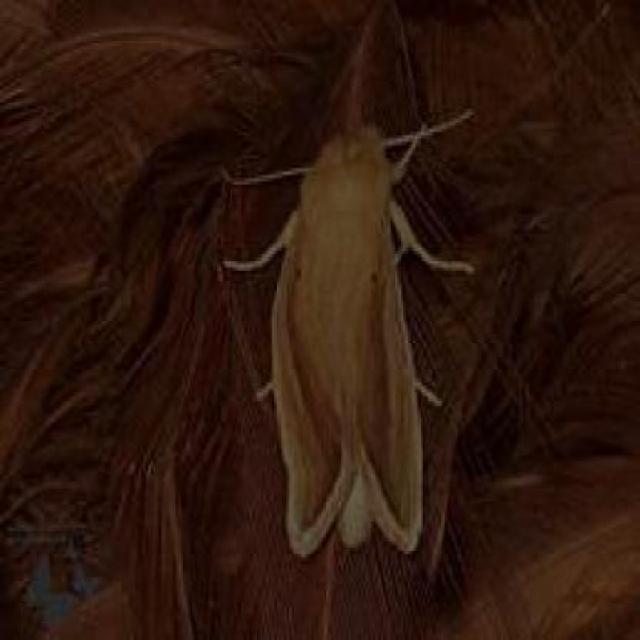stem-borer: (257, 117, 435, 572)
